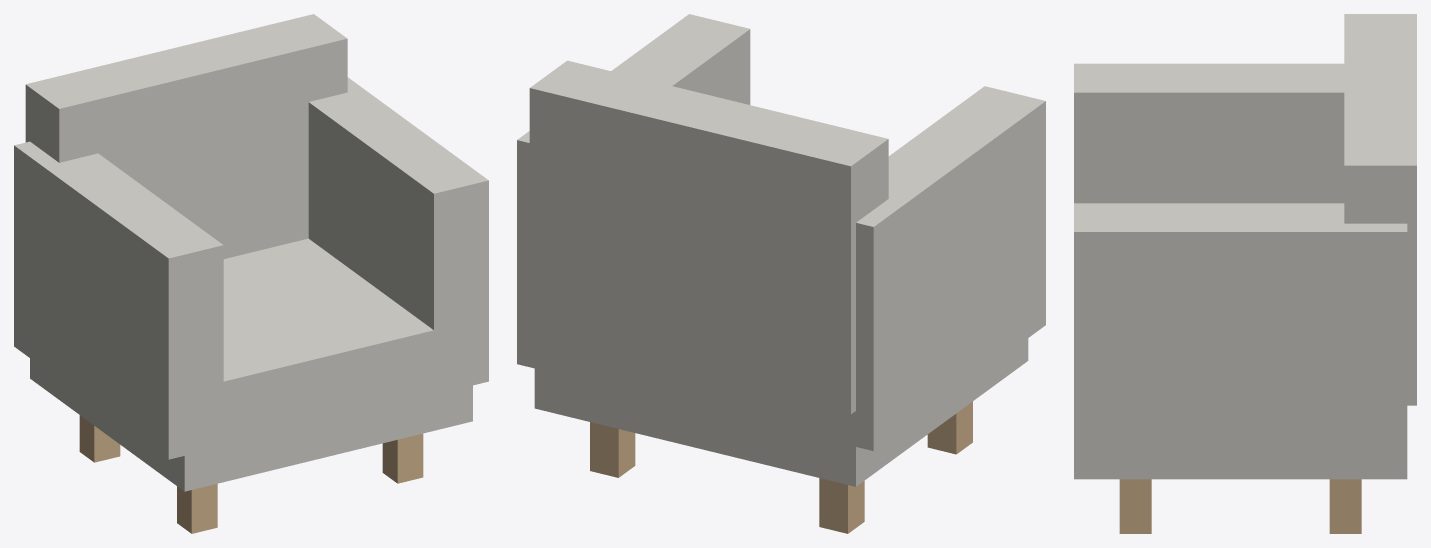
The model's file is reading_chair.glb.
3 renders of one model, left to right at view 1: azimuth 30°, elevation 25°; view 2: azimuth 150°, elevation 25°; view 3: azimuth 270°, elevation 25°, orthographic. The views are drawn at different scales.
Visible parts, largest first — view 1: reading_chair_ivory_2, reading_chair_ivory_0, reading_chair_ivory_1, reading_chair_ivory_3, reading_chair_oak_7, reading_chair_oak_5, reading_chair_oak_4; view 2: reading_chair_ivory_1, reading_chair_ivory_2, reading_chair_ivory_0, reading_chair_ivory_3, reading_chair_oak_4, reading_chair_oak_6, reading_chair_oak_5; view 3: reading_chair_ivory_3, reading_chair_ivory_2, reading_chair_ivory_1, reading_chair_ivory_0, reading_chair_oak_6, reading_chair_oak_7.
Part boxes in pixels (left/top/right/bottom): reading_chair_ivory_2: left=14, top=141, right=223, bottom=459; reading_chair_ivory_0: left=30, top=238, right=472, bottom=491; reading_chair_ivory_1: left=25, top=14, right=347, bottom=258; reading_chair_ivory_3: left=308, top=77, right=488, bottom=394; reading_chair_oak_7: left=382, top=433, right=423, bottom=483; reading_chair_oak_5: left=177, top=483, right=217, bottom=533; reading_chair_oak_4: left=79, top=415, right=120, bottom=462; reading_chair_ivory_1: left=529, top=60, right=888, bottom=414; reading_chair_ivory_2: left=812, top=86, right=1045, bottom=451; reading_chair_ivory_0: left=534, top=338, right=1028, bottom=486; reading_chair_ivory_3: left=517, top=14, right=750, bottom=373; reading_chair_oak_4: left=819, top=478, right=864, bottom=533; reading_chair_oak_6: left=590, top=422, right=635, bottom=477; reading_chair_oak_5: left=927, top=401, right=972, bottom=454; reading_chair_ivory_3: left=1074, top=203, right=1407, bottom=448; reading_chair_ivory_2: left=1074, top=63, right=1344, bottom=203; reading_chair_ivory_1: left=1344, top=14, right=1416, bottom=405; reading_chair_ivory_0: left=1074, top=449, right=1407, bottom=479; reading_chair_oak_6: left=1329, top=479, right=1361, bottom=533; reading_chair_oak_7: left=1119, top=479, right=1151, bottom=533.
Bounding box in the file's own units: 0.9328 × 0.99 × 0.8026.
